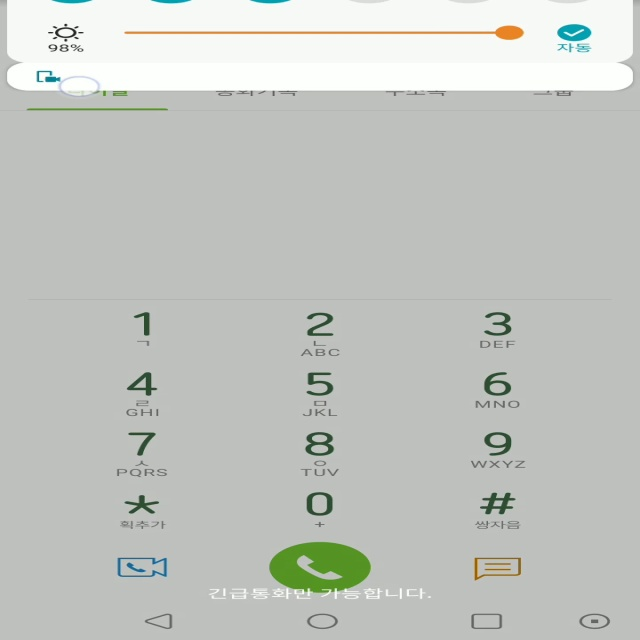Cursor: (56, 76, 101, 98)
